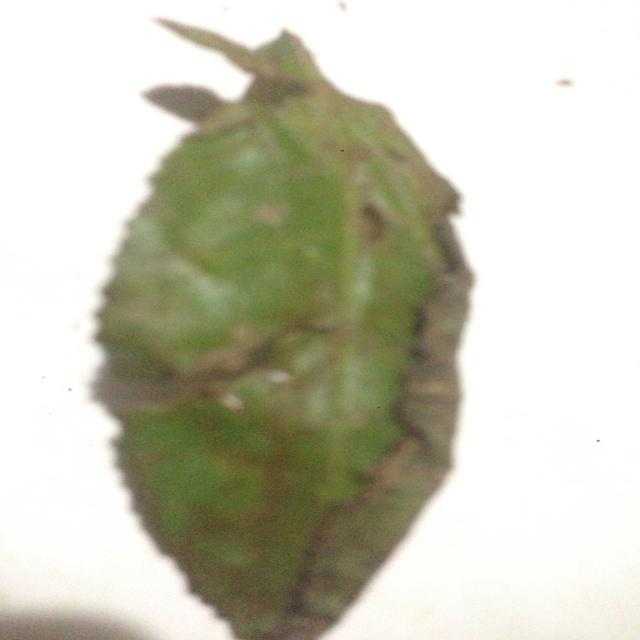Red Leaf Spot: (89, 32, 485, 640)
